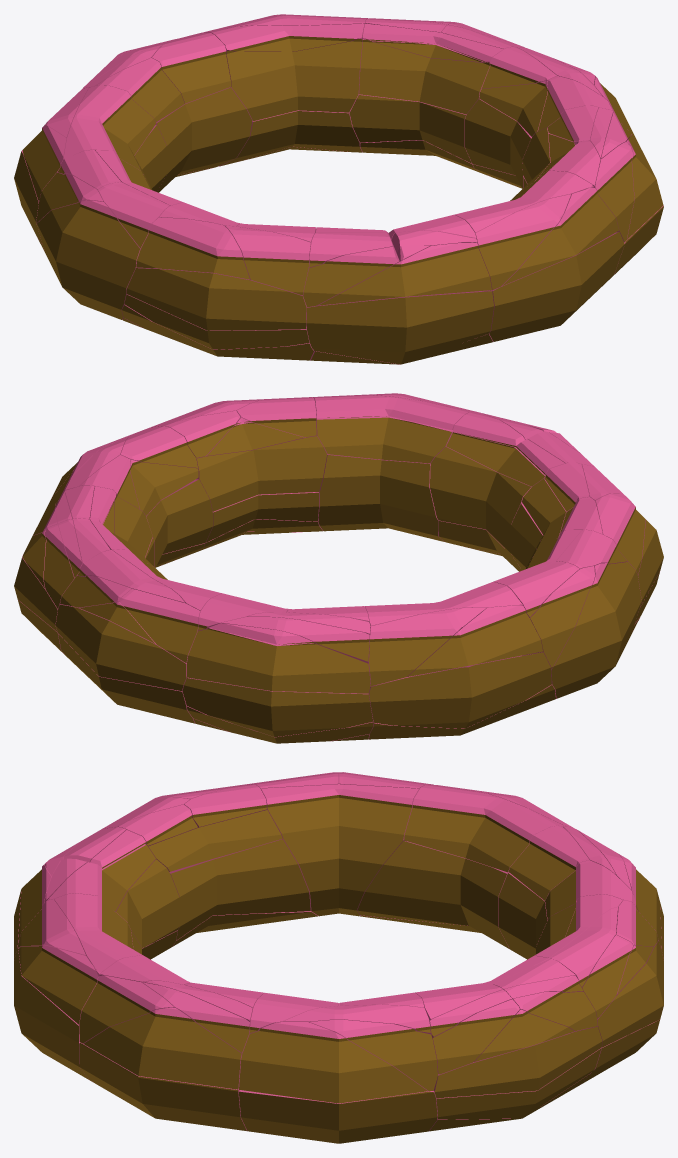
File: Something_fractured.fbx
The picture shows the model from 3 angles, top to bottom: view 1: azimuth 30°, elevation 25°; view 2: azimuth 150°, elevation 25°; view 3: azimuth 270°, elevation 25°; orthographic projection. The views are drawn at different scales.
Visible parts, largest first — view 1: Torus.002_cell.041, Torus.002_cell.023, Torus.002_cell.036, Torus.002_cell.015, Torus.002_cell.030, Torus.002_cell.065, Torus.002_cell.012, Torus.002_cell.066, Torus.002_cell.079, Torus.002_cell.073, Torus.002_cell.025, Torus.002_cell.001 (+44 smaller); view 2: Torus.002_cell.003, Torus.002_cell.040, Torus.002_cell.019, Torus.002_cell.011, Torus.002_cell.036, Torus.002_cell.082, Torus.002_cell.028, Torus.002_cell.038, Torus.002_cell.085, Torus.002_cell.047, Torus.002_cell.037, Torus.002_cell.002 (+49 smaller); view 3: Torus.002_cell.014, Torus.002_cell.010, Torus.002_cell.061, Torus.002_cell.055, Torus.002_cell.025, Torus.002_cell.044, Torus.002_cell.034, Torus.002_cell.072, Torus.002_cell.087, Torus.002_cell.053, Torus.002_cell.059, Torus.002_cell.091 (+47 smaller).
Boxes of the visible parts, <box> form: Torus.002_cell.041: <box>306,291,493,364</box>; Torus.002_cell.023: <box>226,38,362,120</box>; Torus.002_cell.036: <box>37,200,140,319</box>; Torus.002_cell.015: <box>126,268,307,330</box>; Torus.002_cell.030: <box>486,231,624,341</box>; Torus.002_cell.065: <box>359,38,490,114</box>; Torus.002_cell.012: <box>155,87,252,192</box>; Torus.002_cell.066: <box>318,242,491,305</box>; Torus.002_cell.079: <box>136,217,249,279</box>; Torus.002_cell.073: <box>349,94,471,163</box>; Torus.002_cell.025: <box>63,85,156,172</box>; Torus.002_cell.001: <box>218,94,362,166</box>; Torus.002_cell.003: <box>369,652,551,728</box>; Torus.002_cell.040: <box>187,628,370,693</box>; Torus.002_cell.019: <box>318,455,444,541</box>; Torus.002_cell.011: <box>182,677,373,736</box>; Torus.002_cell.036: <box>551,562,641,698</box>; Torus.002_cell.082: <box>196,436,326,511</box>; Torus.002_cell.028: <box>55,604,186,690</box>; Torus.002_cell.038: <box>430,447,531,555</box>; Torus.002_cell.085: <box>316,416,452,463</box>; Torus.002_cell.047: <box>368,607,486,686</box>; Torus.002_cell.037: <box>408,605,542,676</box>; Torus.002_cell.002: <box>146,479,212,567</box>; Torus.002_cell.014: <box>261,784,419,916</box>; Torus.002_cell.010: <box>239,1022,427,1103</box>; Torus.002_cell.061: <box>357,841,509,949</box>; Torus.002_cell.055: <box>169,839,310,940</box>; Torus.002_cell.025: <box>404,785,565,872</box>; Torus.002_cell.044: <box>238,1090,437,1143</box>; Torus.002_cell.034: <box>84,1007,241,1089</box>; Torus.002_cell.072: <box>79,1043,246,1130</box>; Torus.002_cell.087: <box>433,1026,602,1098</box>; Torus.002_cell.053: <box>148,810,282,871</box>; Torus.002_cell.059: <box>310,1019,437,1091</box>; Torus.002_cell.091: <box>18,945,98,1024</box>.
Bounding box in the file's own units: 250 × 52.18 × 238.
